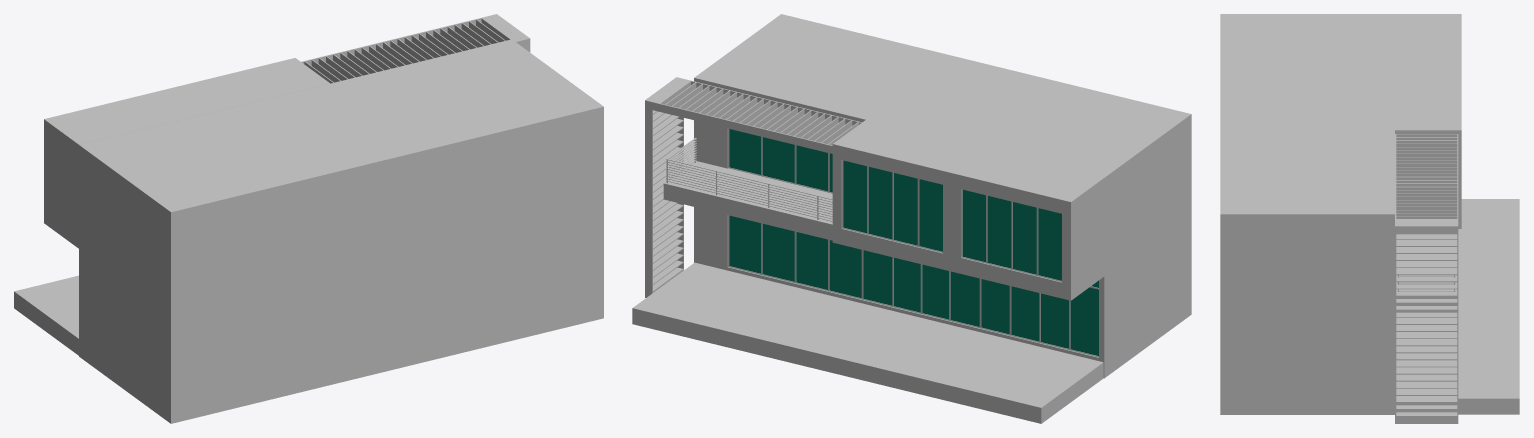
Rendered from House_1_3.fbx.
3 views of the same model, side by side, from view 1: azimuth 30°, elevation 25°; view 2: azimuth 150°, elevation 25°; view 3: azimuth 270°, elevation 25° (orthographic). The views are drawn at different scales.
Parts seen in each view (by area): view 1: H1_MOD_009, H1_MOD_008, CANOPY001, H1_MOD_007, TERRACE003, TERRACE002; view 2: H1_MOD_009, TERRACE003, H1_MOD_008, H1_MOD_007, TERRACE002, CANOPY001, TERRACE001, Box020, BALUSTRADE001; view 3: H1_MOD_009, TERRACE003, Box020, CANOPY001, H1_MOD_007, H1_MOD_008, TERRACE002, TERRACE001, BALUSTRADE001.
Part boxes in pixels (x1,y1,x2,y2): H1_MOD_009: (79,39,603,423); H1_MOD_008: (44,88,204,248); CANOPY001: (301,16,522,83); H1_MOD_007: (170,58,329,113); TERRACE003: (14,275,78,331); TERRACE002: (47,307,78,355); H1_MOD_009: (694,14,1191,378); TERRACE003: (632,285,1072,423); H1_MOD_008: (952,149,1104,300); H1_MOD_007: (832,119,984,271); TERRACE002: (664,262,1103,400); CANOPY001: (652,79,861,153); TERRACE001: (663,161,832,240); Box020: (645,77,683,297); BALUSTRADE001: (666,138,832,221); H1_MOD_009: (1220,14,1394,414); TERRACE003: (1458,199,1519,414); Box020: (1395,222,1458,423); CANOPY001: (1395,134,1458,222); H1_MOD_007: (1395,72,1461,228); H1_MOD_008: (1395,14,1461,71); TERRACE002: (1396,312,1457,412); TERRACE001: (1396,234,1457,312); BALUSTRADE001: (1397,234,1455,291).
Size of the model in its own units: 1982 by 890 by 1200.
